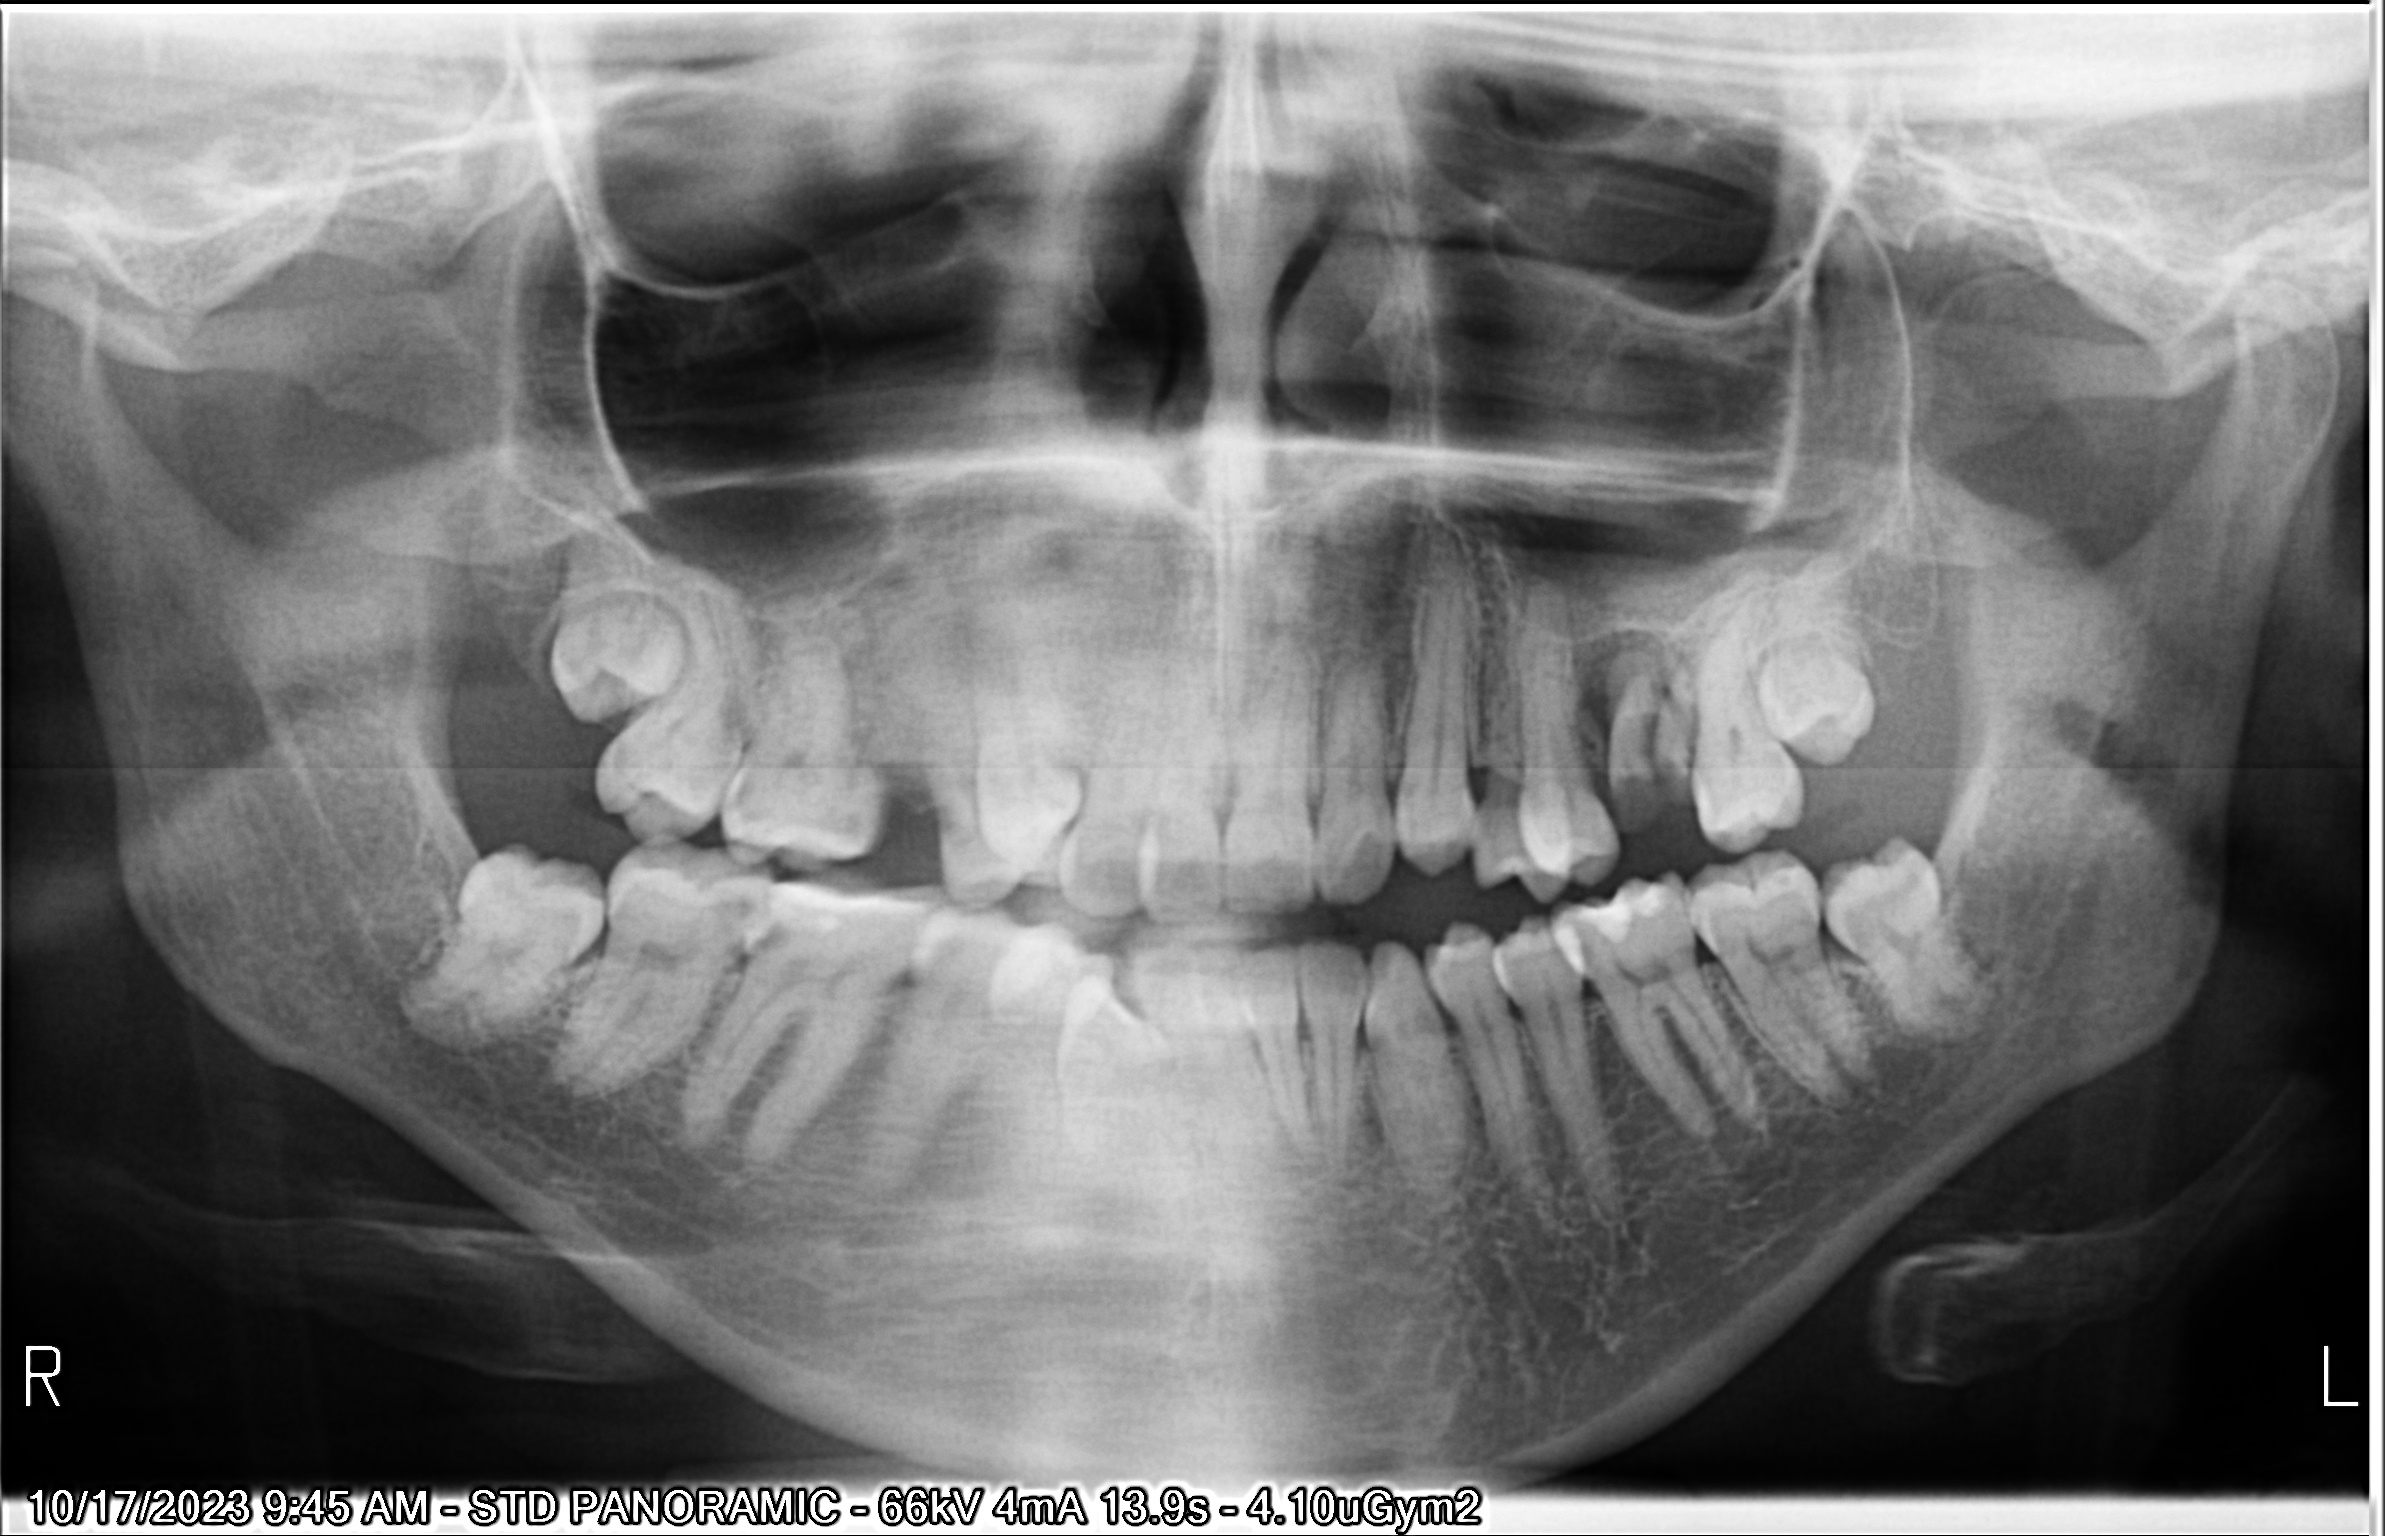API: (756, 273, 2385, 994)
BON: (763, 235, 2385, 1084), (798, 257, 2385, 1046)
CAR: (339, 429, 1156, 1400), (335, 405, 1102, 1352), (323, 353, 1097, 1180)
IMT: (179, 181, 871, 917)
